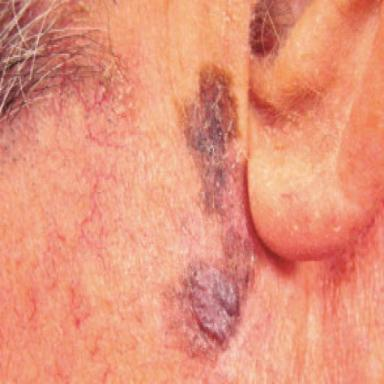Melanoma: (164, 66, 259, 356), (248, 0, 310, 61)
